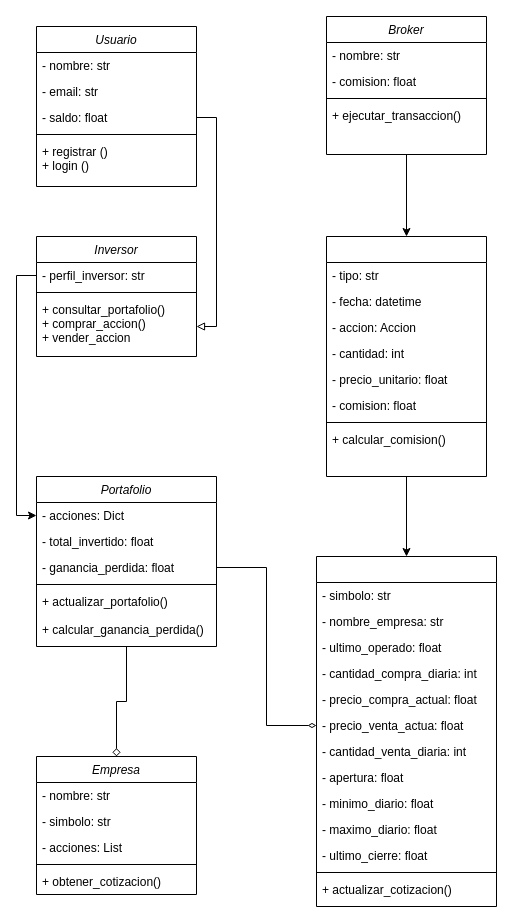
The diagram is 513 pixels wide and 923 high, and some of its shapes have lost their labels. Here are the shapes that lost their labels. From the top down, the box of each, then its label:
(326, 236, 486, 476): Transaccion
(316, 556, 496, 906): Accion
